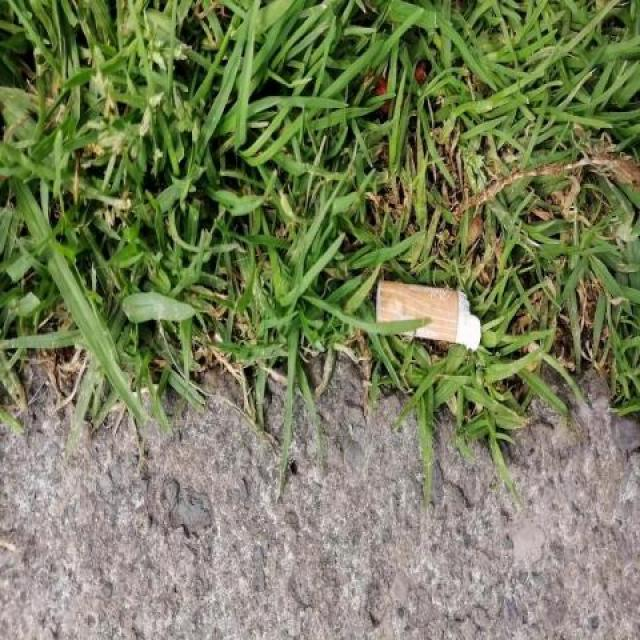non-organic waste: (369, 276, 484, 355)
